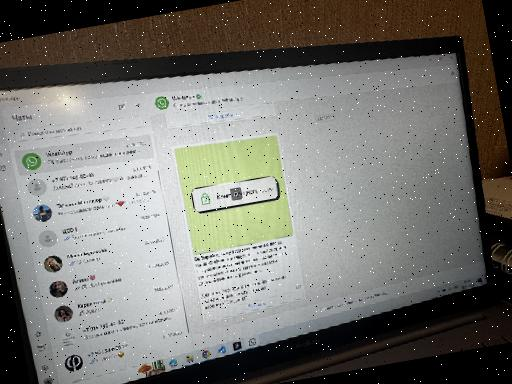whatsapp: (0, 31, 493, 382)
